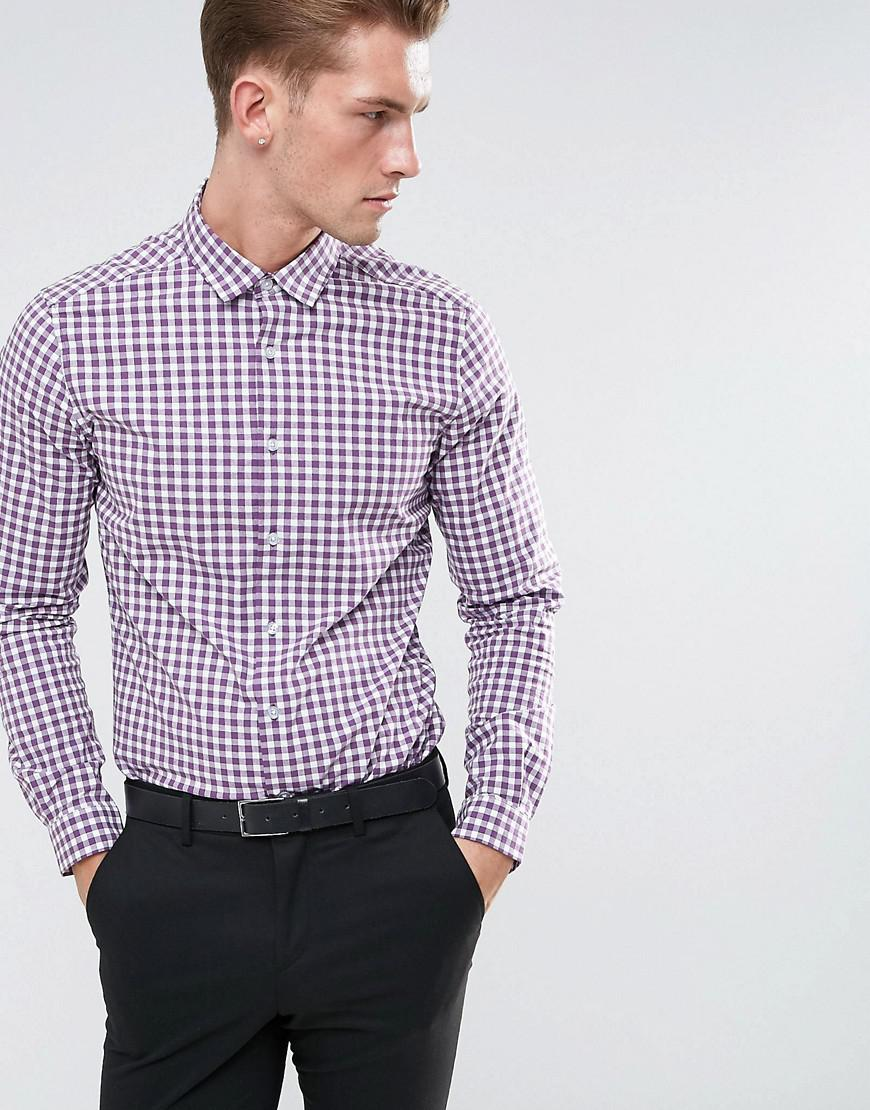teeshirt: (7, 179, 551, 879)
